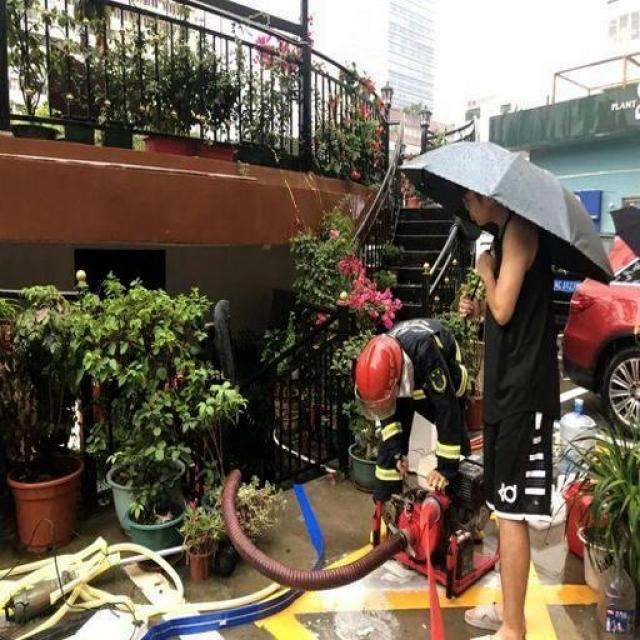civilian: (457, 178, 569, 640)
rescuer: (337, 290, 477, 534)
